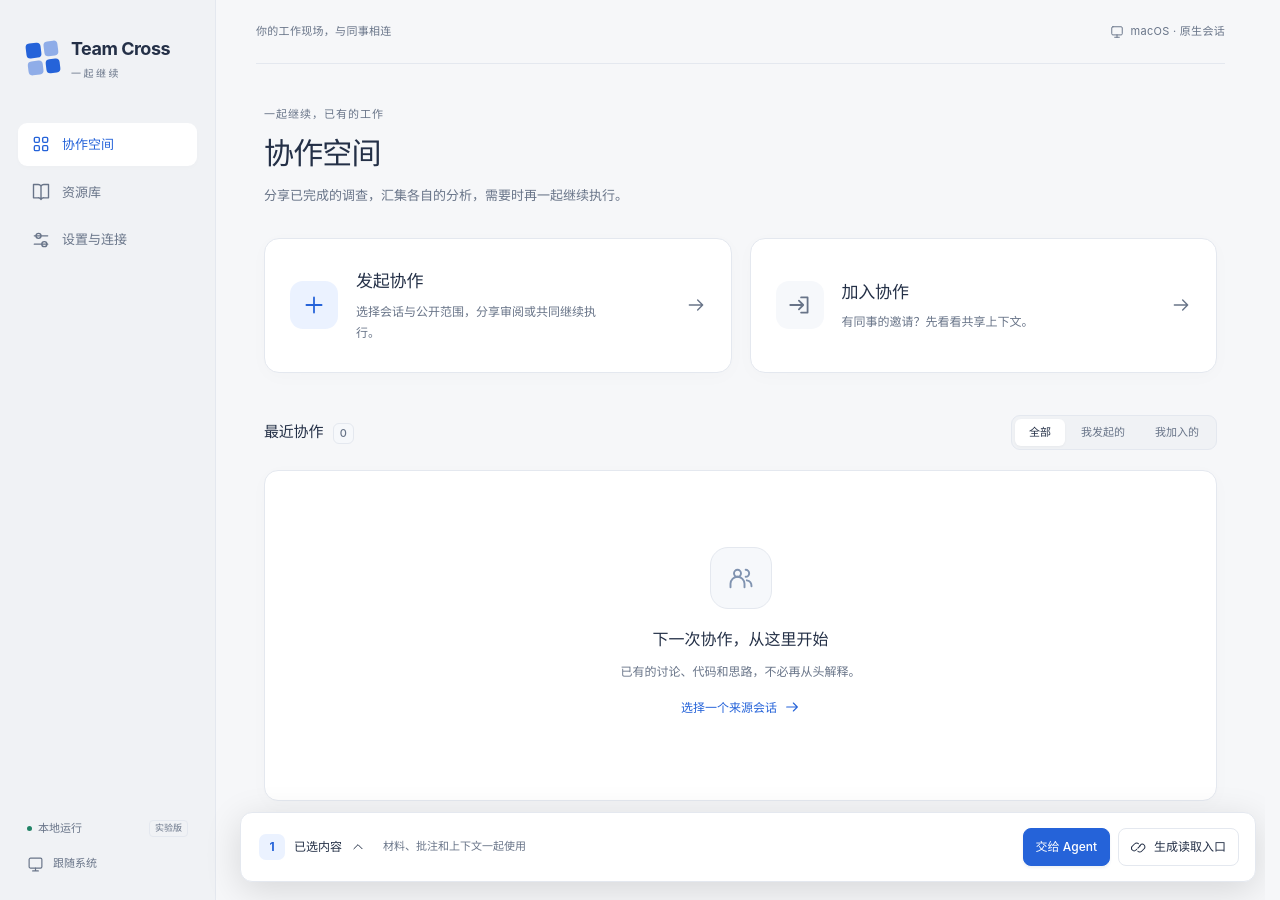
Test case: keeps the regular copy entry when the host does not support conversation messages
This screenshot has width=1280, height=900.
Step 1. Click the button "生成读取入口" → (1178, 847), box x1=1118 y1=828 x2=1239 y2=866
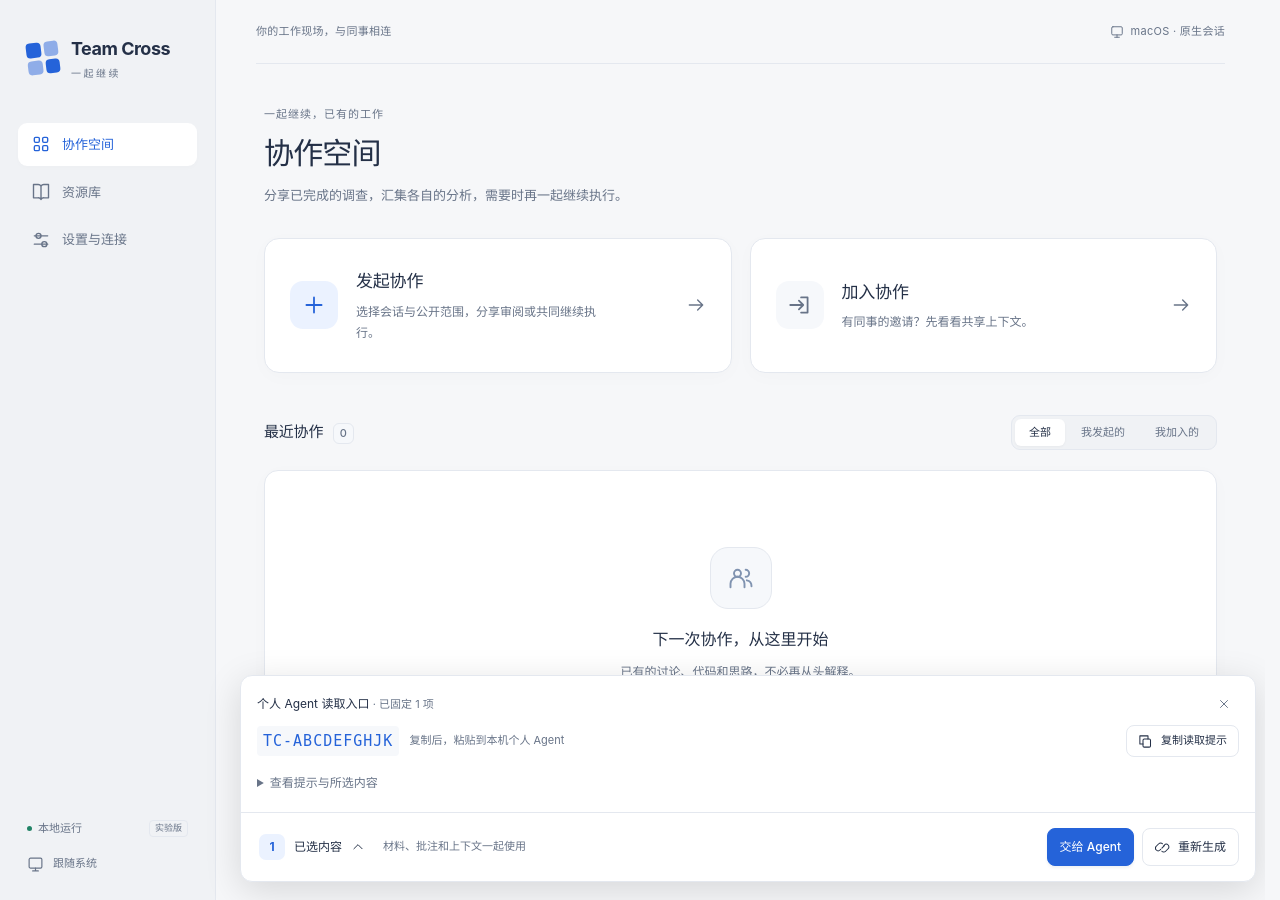
Expected: the text "TC-ABCDEFGHJK" is shown, x1=257 y1=726 x2=399 y2=756
Expected: the button "复制读取提示" is enabled, x1=1126 y1=725 x2=1239 y2=757
